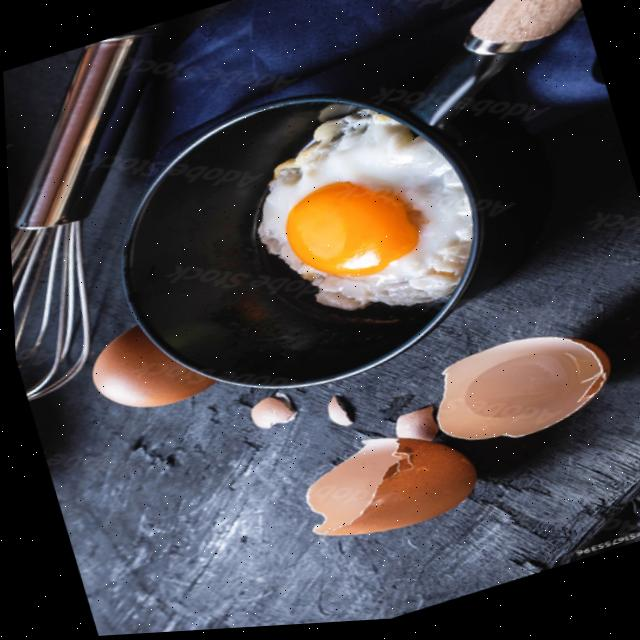Egg: (254, 107, 471, 313)
